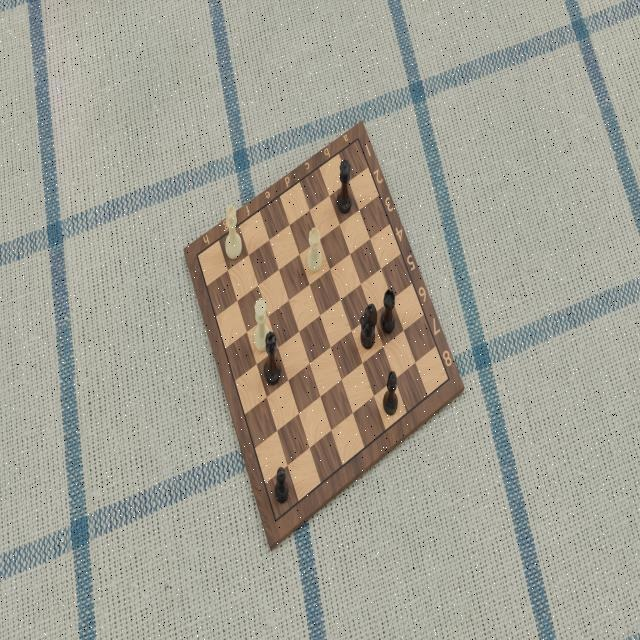black-bishop: (383, 369, 401, 422)
black-king: (262, 326, 282, 391)
black-knight: (358, 297, 378, 355)
black-pawn: (272, 460, 292, 508)
black-queen: (334, 158, 354, 218)
black-rook: (379, 289, 397, 335)
white-king: (223, 203, 245, 263)
white-queen: (253, 296, 271, 352)
white-rook: (306, 225, 325, 273)
